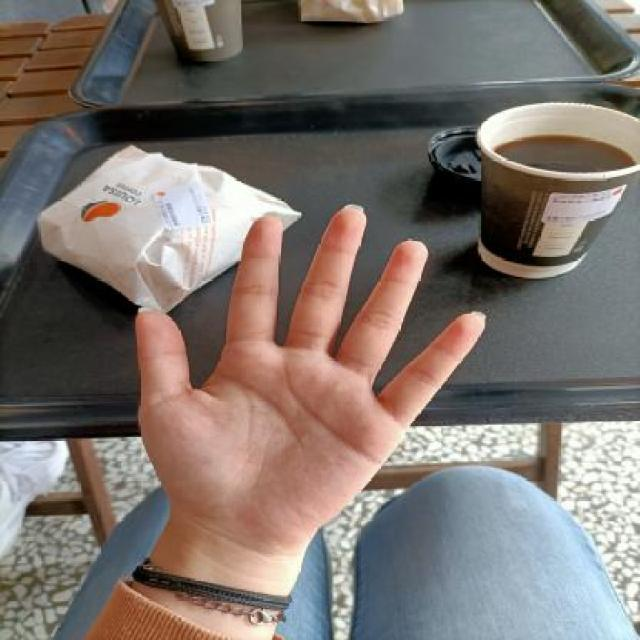bare_hand: (122, 186, 502, 562)
